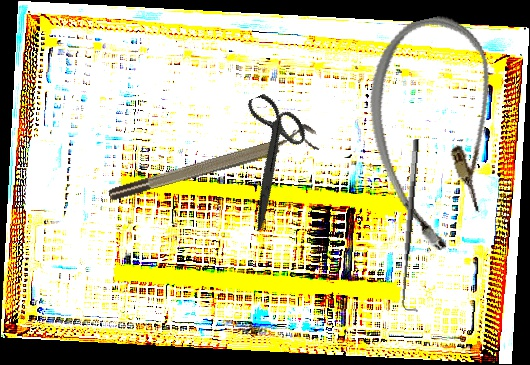Cannula: (351, 7, 528, 259)
Fixation Ring: (104, 121, 321, 205)
Hook Surgical: (395, 138, 433, 314)
Iris Scissors: (205, 84, 335, 232)
